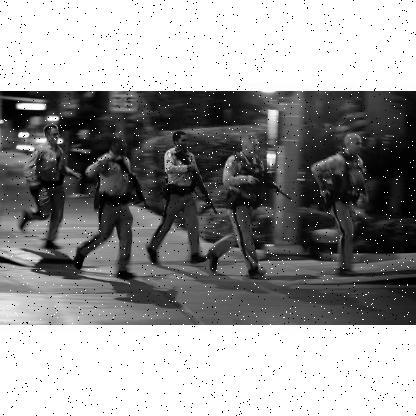gun: (171, 148, 217, 214), (232, 159, 290, 201), (110, 154, 146, 210)
